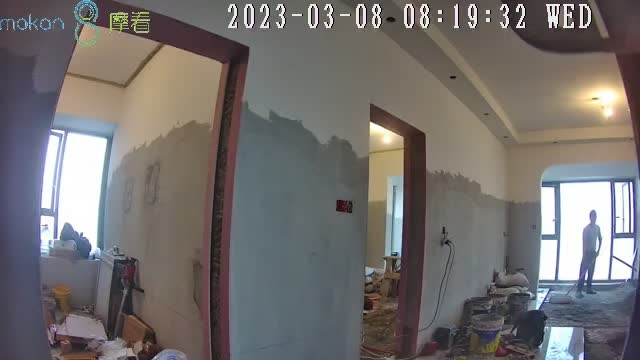people: (575, 209, 602, 298)
window: (541, 182, 637, 285), (42, 126, 102, 251)
